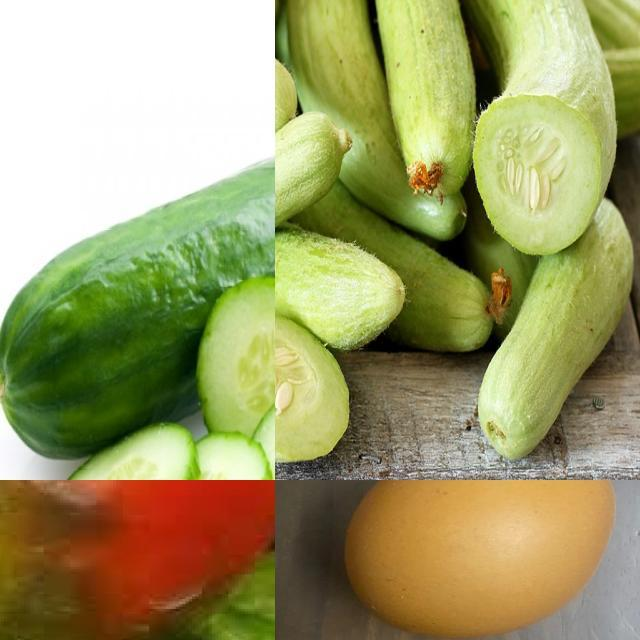bell_pepper: (1, 481, 276, 640)
cucumber: (1, 84, 276, 452), (429, 1, 621, 246), (298, 1, 473, 248), (479, 196, 637, 466), (360, 1, 479, 185), (276, 219, 405, 342), (276, 69, 353, 262), (199, 276, 276, 445), (276, 305, 356, 462), (54, 420, 202, 481), (140, 430, 276, 481)
egg: (340, 481, 618, 640)
